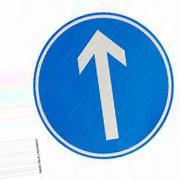forward: (32, 13, 172, 159)
